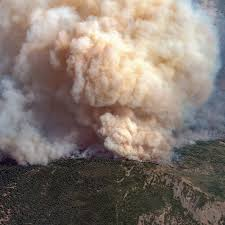smoke: (4, 2, 225, 136)
